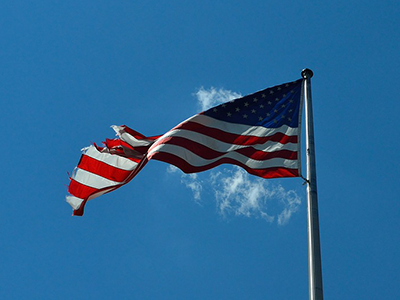America flag: (65, 77, 304, 217)
